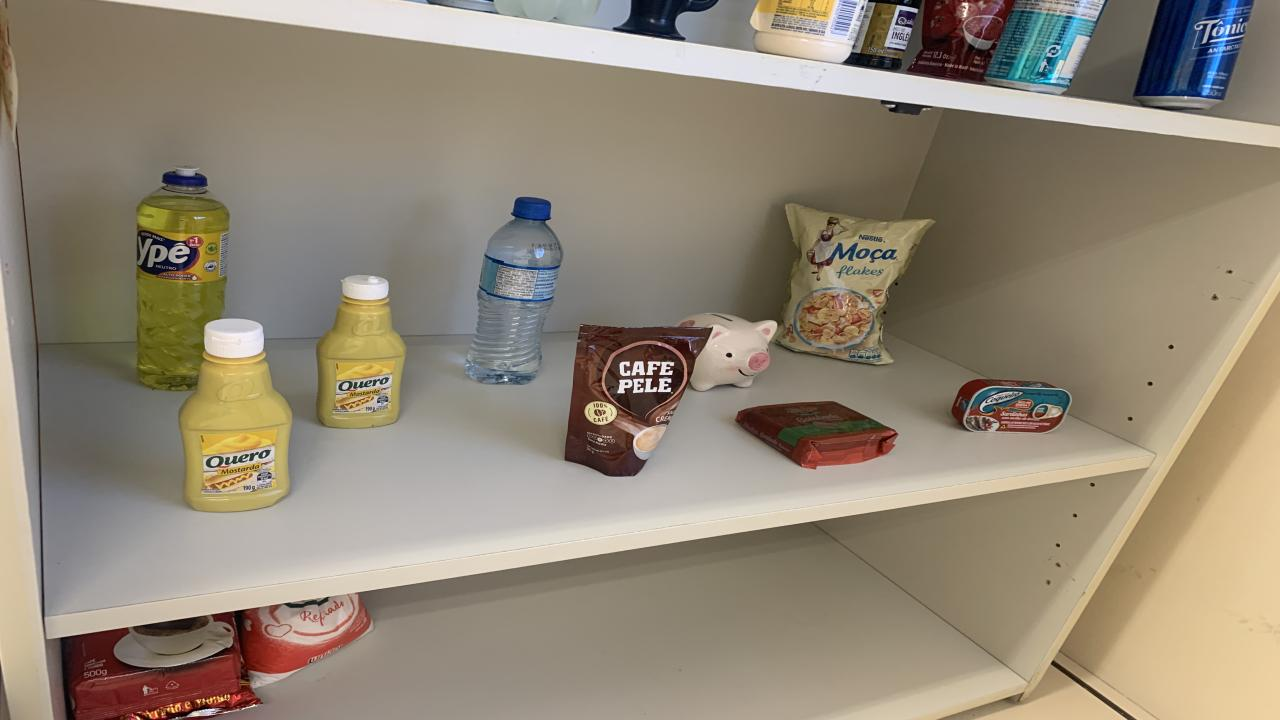Coffee-Pantry_Items: (565, 324, 710, 476)
Detergent-Cleanup_Items: (138, 167, 230, 390)
English_Sauce-Pantry_Items: (845, 0, 920, 69)
Flakes-Snacks: (778, 204, 935, 366)
Guava-Snacks: (735, 401, 898, 469)
Mayonnaise-Pantry_Items: (750, 0, 868, 64)
Mustard-Pantry_Items: (178, 319, 292, 512), (318, 276, 405, 428)
Pig_Safe-Miscellaneous: (678, 313, 778, 392)
Soda-Drinks: (495, 0, 600, 24)
Tea-Drinks: (985, 0, 1105, 94)
Tomato_Sauce-Pantry_Items: (908, 0, 1015, 82)
Tonic-Drinks: (1135, 0, 1252, 111)
Tuna_Can-Pantry_Items: (950, 379, 1070, 433)
Water_Bottle-Drinks: (465, 197, 562, 384)
